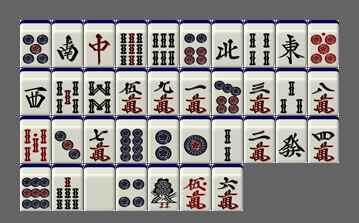0m: (180, 164, 211, 211)
0p: (308, 20, 339, 67)
0s: (20, 116, 51, 163)
1m: (180, 68, 211, 115)
1p: (180, 116, 211, 163)
1s: (148, 164, 179, 211)
1z: (276, 20, 307, 67)
2m: (244, 116, 275, 163)
2p: (148, 116, 179, 163)
2s: (212, 116, 243, 163)
2z: (52, 20, 83, 67)
3m: (244, 68, 275, 115)
3p: (52, 116, 83, 163)
3s: (276, 68, 307, 115)
3z: (20, 68, 51, 115)
4m: (308, 116, 339, 163)
4p: (116, 164, 147, 211)
4s: (244, 20, 275, 67)
4z: (212, 20, 243, 67)
5m: (116, 68, 147, 115)
5p: (20, 20, 51, 67)
5s: (52, 68, 83, 115)
5z: (84, 164, 115, 211)
6m: (212, 164, 243, 211)
6p: (180, 20, 211, 67)
6s: (148, 20, 179, 67)
6z: (276, 116, 307, 163)
7m: (84, 116, 115, 163)
7p: (212, 68, 243, 115)
7s: (52, 164, 83, 211)
7z: (84, 20, 115, 67)
8m: (308, 68, 339, 115)
8p: (116, 116, 147, 163)
8s: (84, 68, 115, 115)
9m: (148, 68, 179, 115)
9p: (20, 164, 51, 211)
9s: (116, 20, 147, 67)
